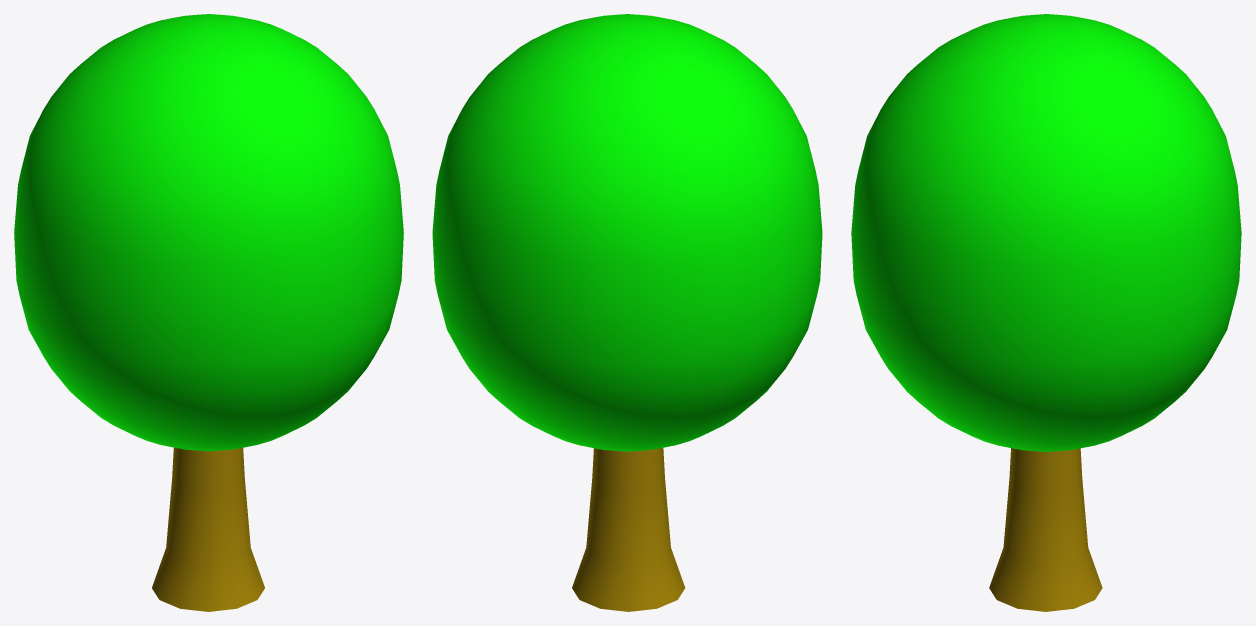
The model's file is Tree.fbx.
The picture shows the model from 3 angles, left to right: view 1: azimuth 30°, elevation 25°; view 2: azimuth 150°, elevation 25°; view 3: azimuth 270°, elevation 25°; orthographic projection.
Visible parts, largest first — view 1: Cartoon tree 1; view 2: Cartoon tree 1; view 3: Cartoon tree 1.
Boxes of the visible parts, x1=… form: Cartoon tree 1: x1=14, y1=14, x2=403, y2=611; Cartoon tree 1: x1=432, y1=14, x2=822, y2=611; Cartoon tree 1: x1=851, y1=14, x2=1241, y2=611.
Size of the model in its own units: 33.67 by 53.14 by 33.68.
